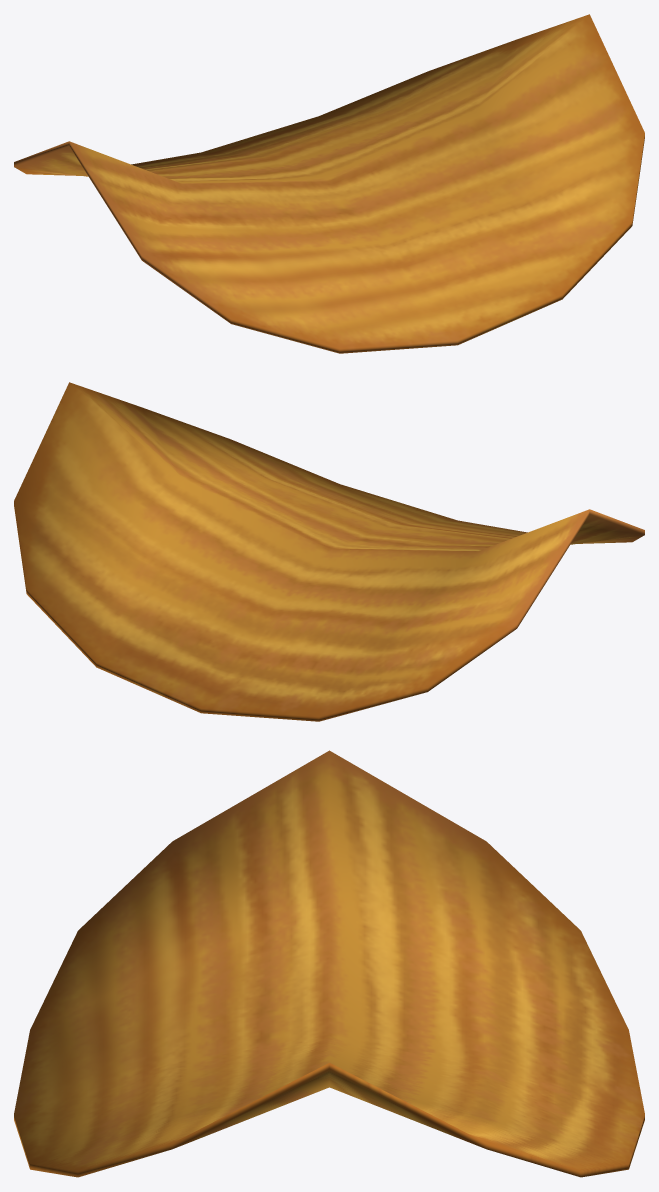
The model's file is chipscurvySolidify.fbx.
3 views of the same model, one above another, from view 1: azimuth 30°, elevation 25°; view 2: azimuth 150°, elevation 25°; view 3: azimuth 270°, elevation 25° (orthographic). The views are drawn at different scales.
Visible parts, largest first — view 1: chipscurvySolidify; view 2: chipscurvySolidify; view 3: chipscurvySolidify.
Part boxes in pixels (bbox=[...]): chipscurvySolidify: bbox=[14, 14, 644, 353]; chipscurvySolidify: bbox=[14, 382, 644, 721]; chipscurvySolidify: bbox=[14, 750, 644, 1177].
Bounding box in the file's own units: 13.79 × 4.4 × 11.78.
